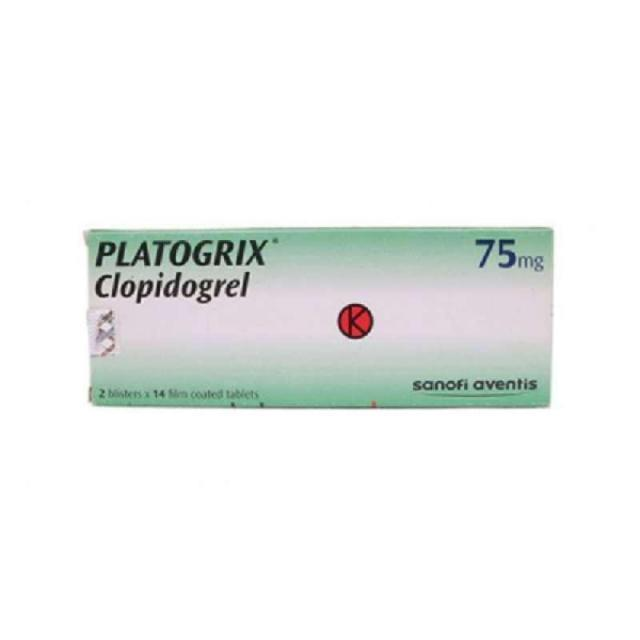drug-name: (95, 236, 269, 268)
